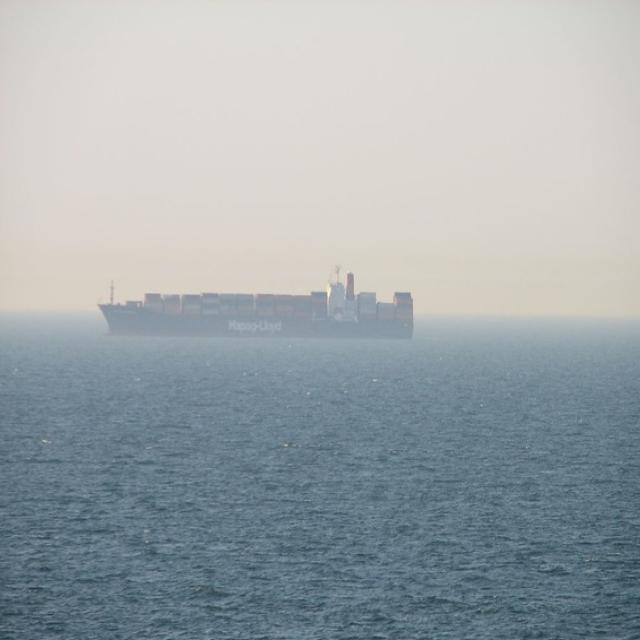cargoship: (98, 265, 416, 342)
